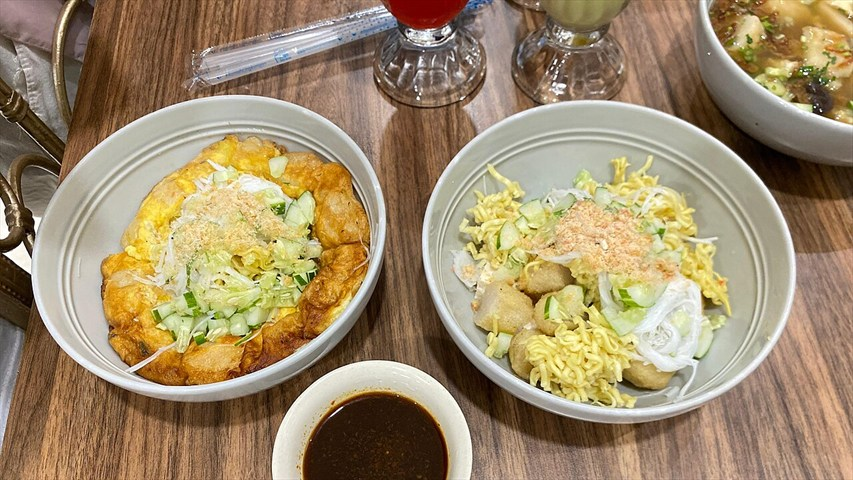Pempek: (82, 67, 766, 425)
